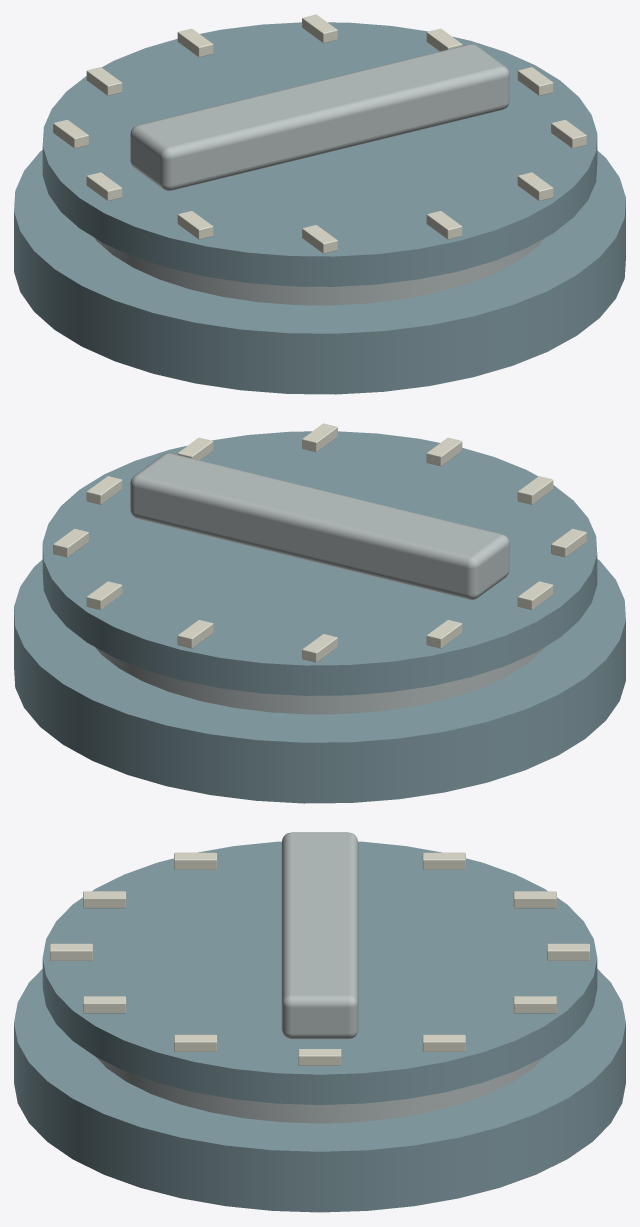
File: abandoned-tidal-model-testing-hall-model-positioning-t-e0a9d8fa__32362.glb
The picture shows the model from 3 angles, top to bottom: view 1: azimuth 30°, elevation 25°; view 2: azimuth 150°, elevation 25°; view 3: azimuth 270°, elevation 25°; orthographic projection.
Visible parts, largest first — view 1: model-positioning-turntable; view 2: model-positioning-turntable; view 3: model-positioning-turntable.
Boxes of the visible parts, x1=… form: model-positioning-turntable: x1=14, y1=14, x2=625, y2=394; model-positioning-turntable: x1=14, y1=423, x2=625, y2=803; model-positioning-turntable: x1=14, y1=832, x2=625, y2=1212.
Size of the model in its own units: 0.64 by 0.195 by 0.64.
